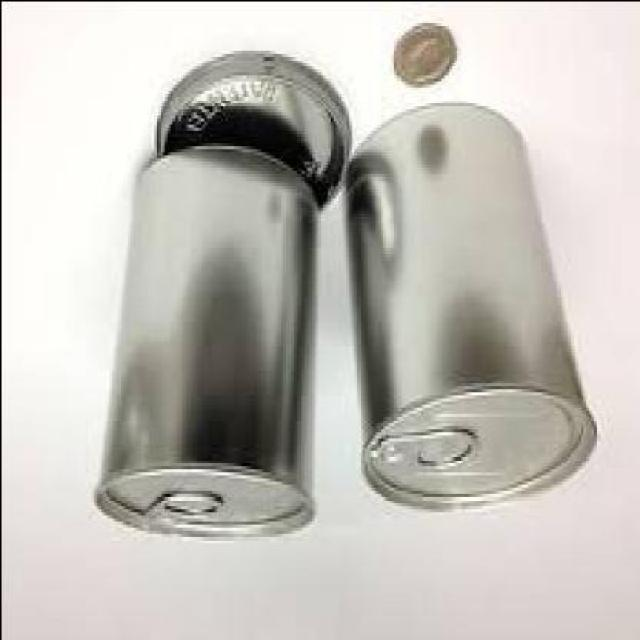METAL: (342, 104, 593, 510), (90, 144, 316, 538), (152, 52, 348, 210), (390, 25, 453, 89)
